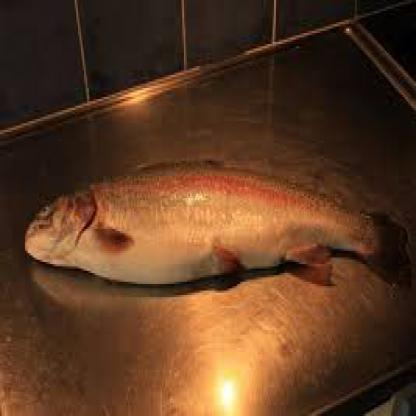fish: (20, 153, 414, 289)
